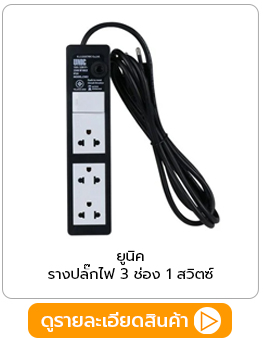Three_eye_plug: (60, 43, 119, 239)
